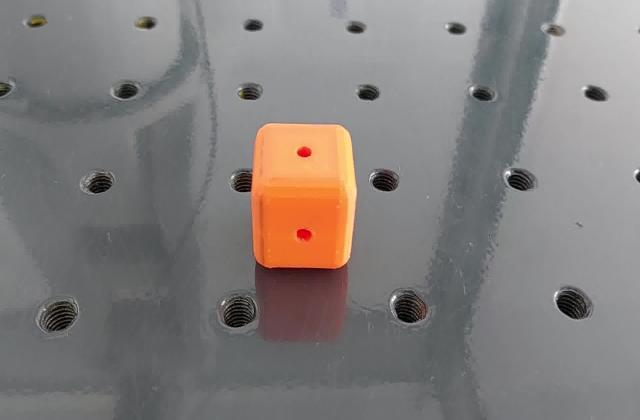cube: (247, 121, 361, 273)
